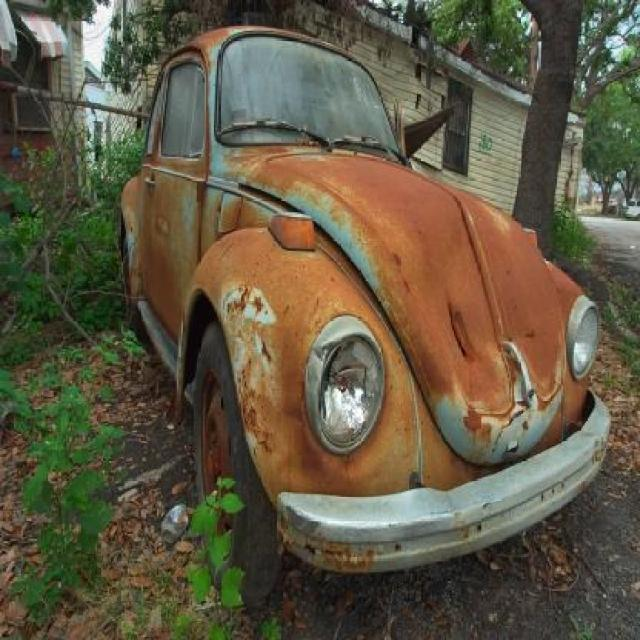corrosion: (118, 22, 612, 580)
